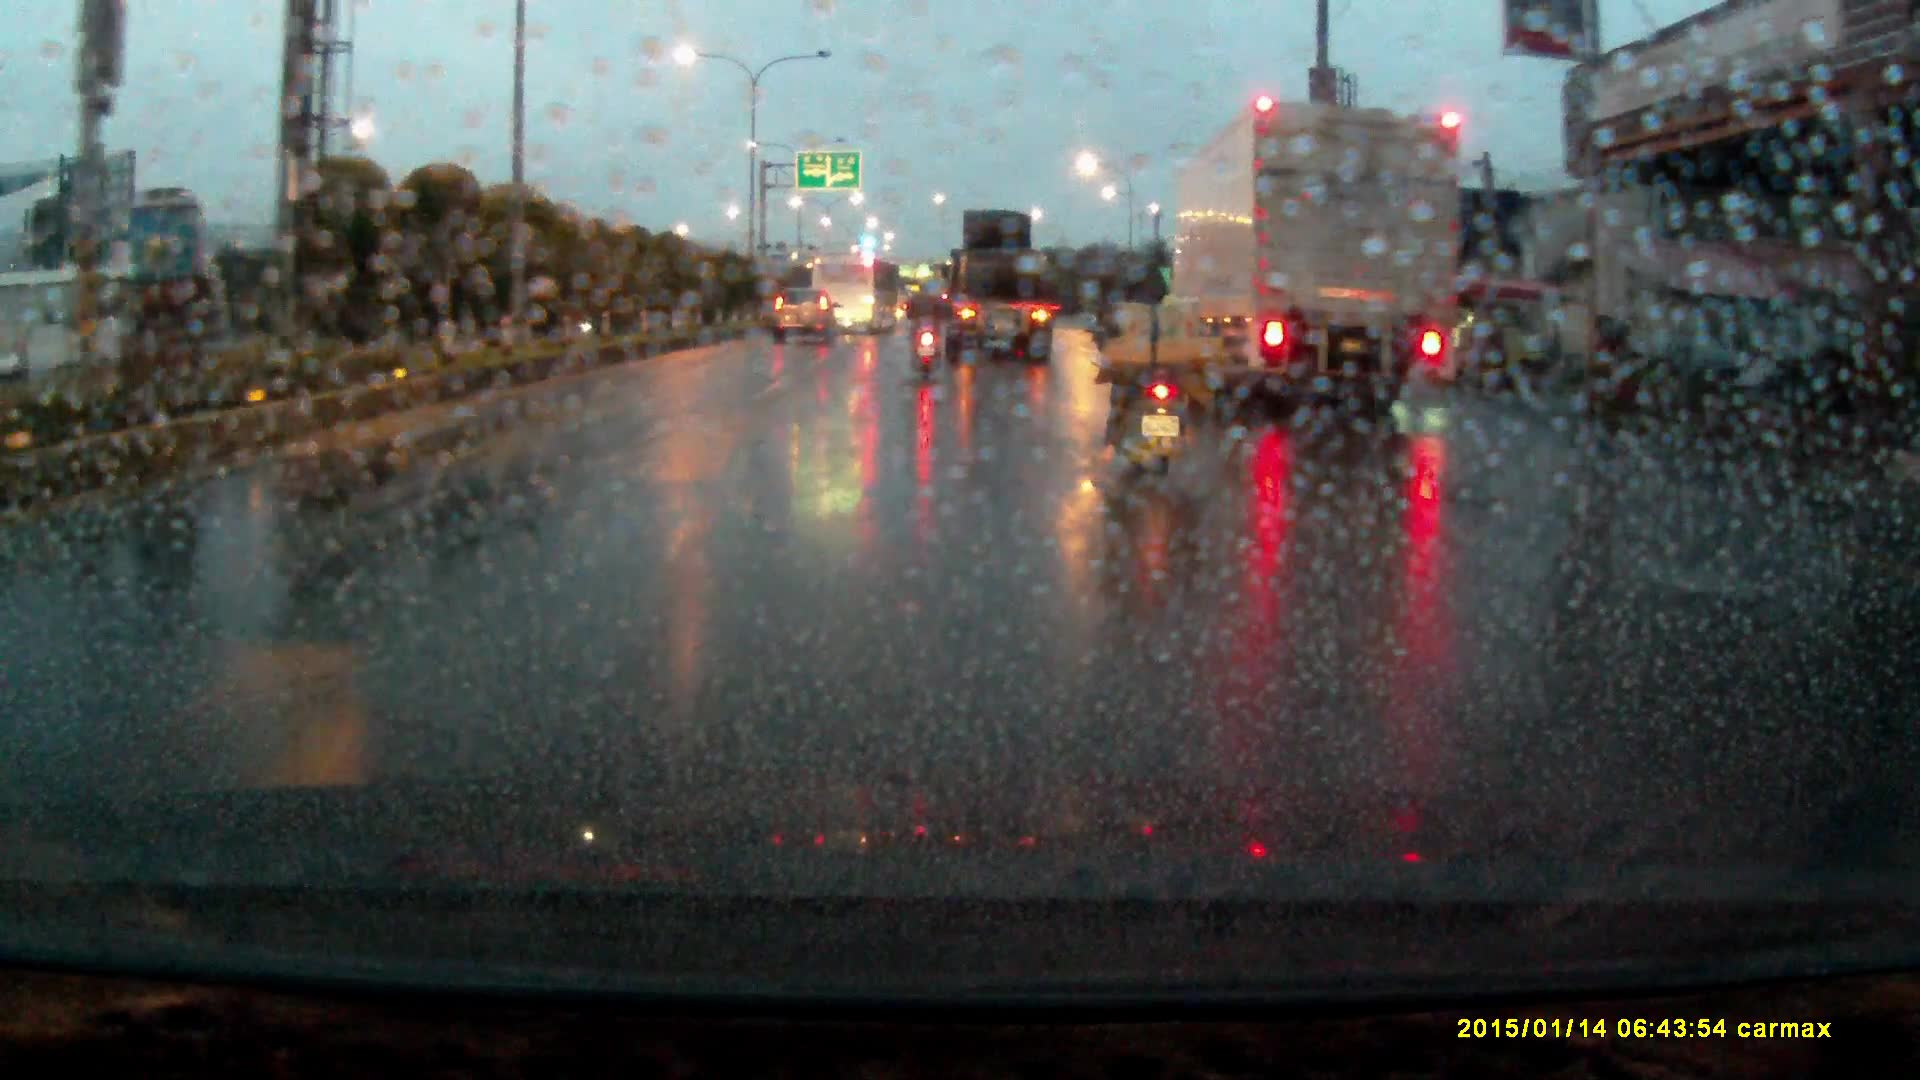rider: (1093, 253, 1212, 502), (907, 275, 948, 383)
vehicle: (1158, 95, 1468, 420), (938, 207, 1057, 365), (810, 254, 879, 336), (769, 291, 840, 354)
